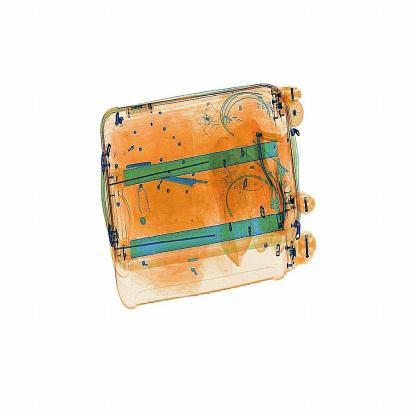wrench: (156, 170, 246, 200)
